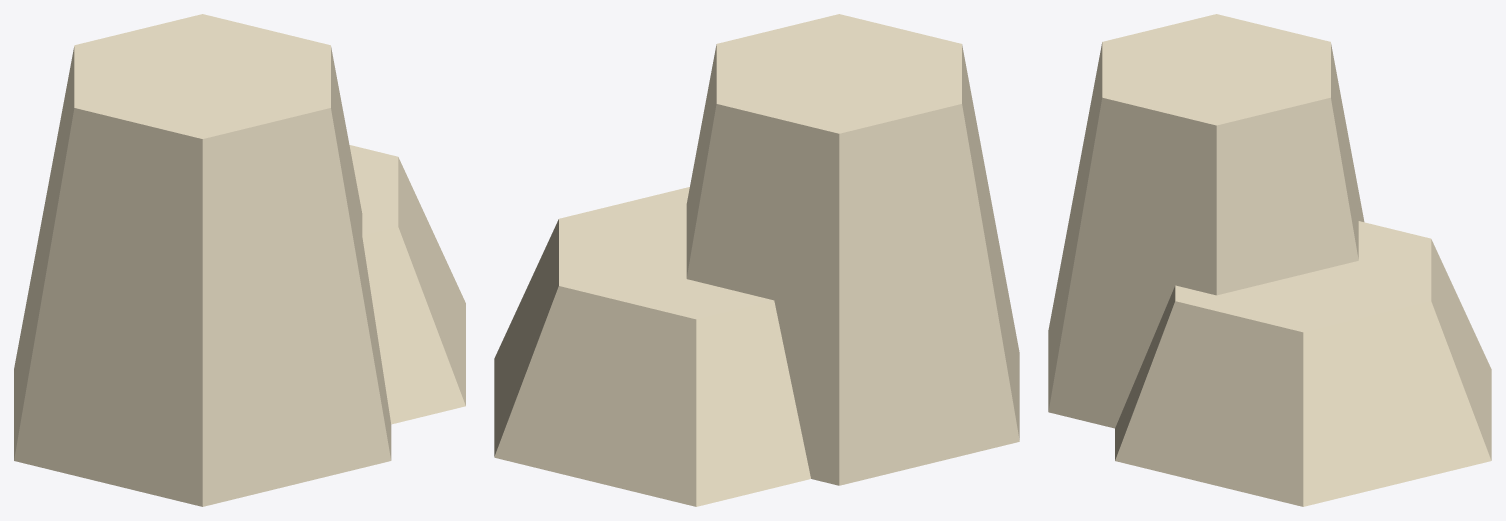
3 views of the same model, side by side, from view 1: azimuth 30°, elevation 25°; view 2: azimuth 150°, elevation 25°; view 3: azimuth 270°, elevation 25° (orthographic). The views are drawn at different scales.
Visible parts, largest first — view 1: resourceStone; view 2: resourceStone; view 3: resourceStone.
Boxes of the visible parts, x1,y1,x2,y2 form: resourceStone: [14, 14, 465, 506]; resourceStone: [494, 14, 1019, 506]; resourceStone: [1048, 14, 1491, 506].
Size of the model in its own units: 0.1653 by 0.1068 by 0.1422.
